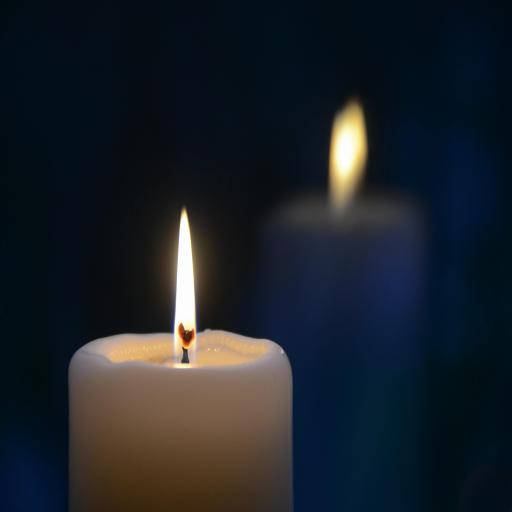candlelight: (58, 179, 300, 512), (286, 81, 423, 498)
